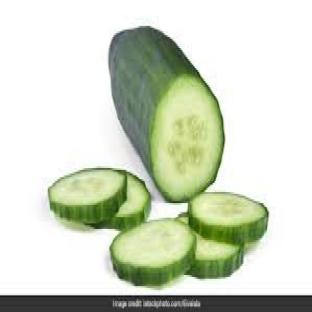Cucumber: (109, 28, 224, 201), (110, 218, 196, 286), (48, 168, 127, 223), (188, 192, 268, 243), (90, 172, 150, 230), (188, 233, 243, 278)
